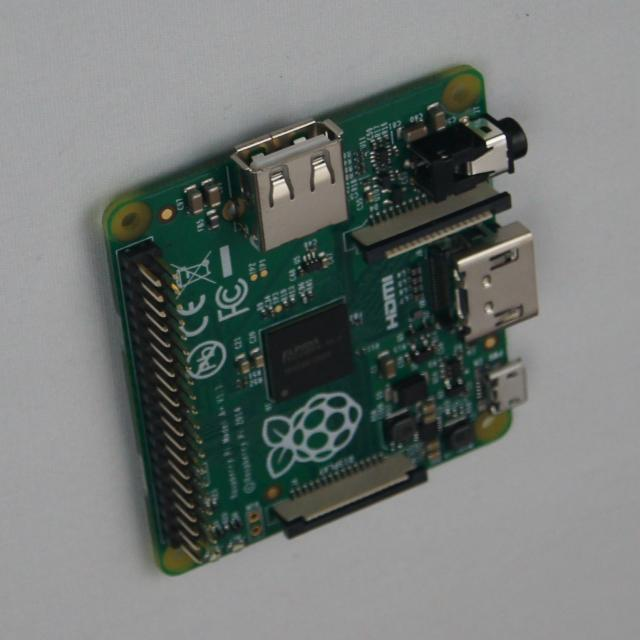Raspberry-Pi-1-A-: (103, 66, 539, 574)
